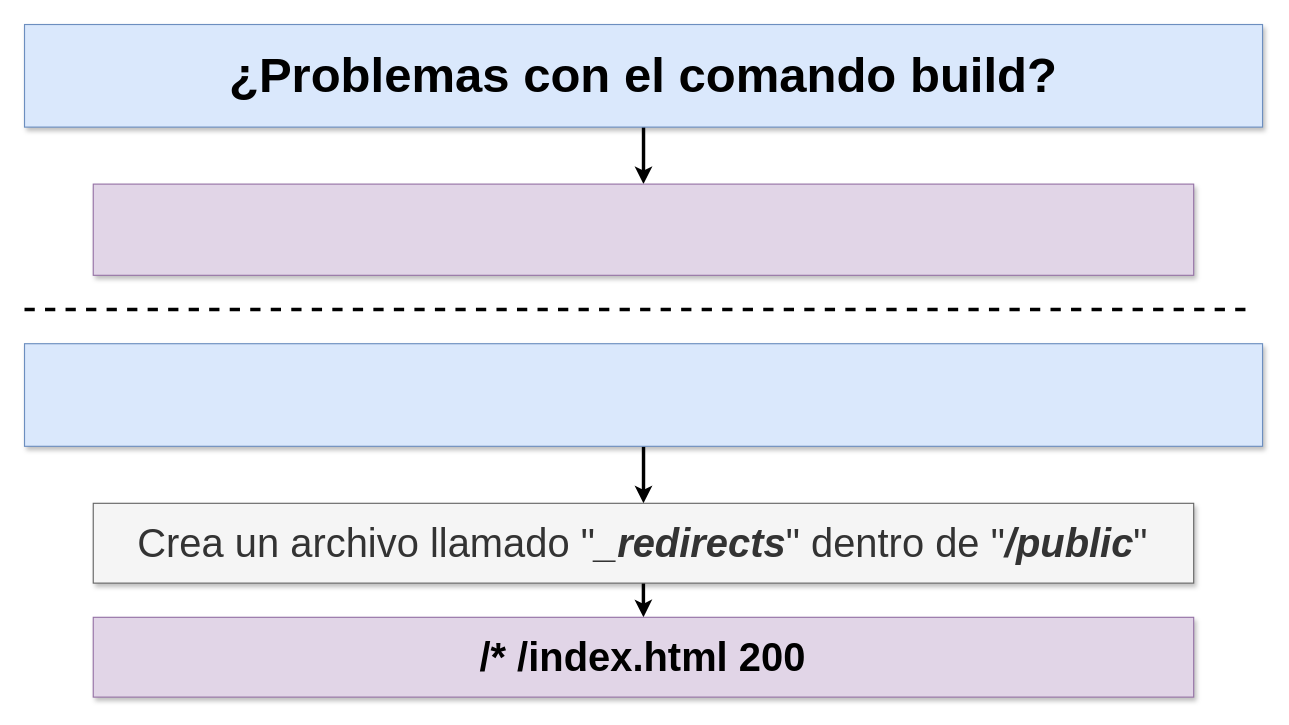
Image size: 1289x725. Some labels were removed from this diagram. Here are the shapes that lost their labels. From the top down, the centre of each, then its label:
At point (644, 230): "CI='' npm run build".
At point (644, 396): "¿Problemas con la navegación?".
